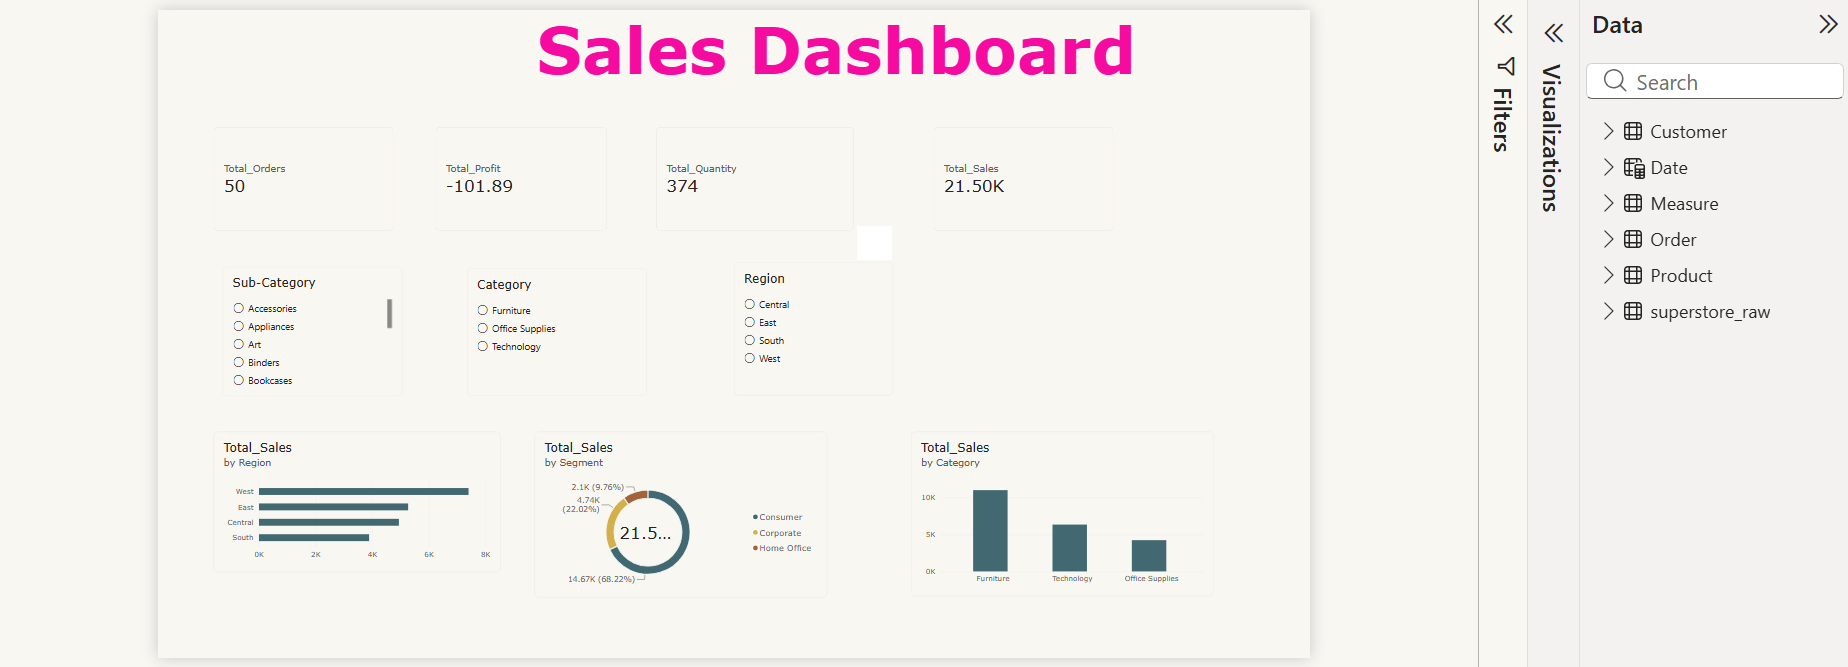

What the dashboard file says about the page in this screenshot:
{"tool":"powerbi","page":{"name":"Page 1","canvas":[1920,1080],"ordinal":0},"visuals":[{"type":"textbox","box":[431.9,0,1395.8,279.2],"z":0},{"type":"listSlicer","fields":{"Values":["superstore_raw.Region"]},"box":[959.6,420,265.1,222.9],"z":5003},{"type":"listSlicer","fields":{"Values":["superstore_raw.Sub-Category"]},"box":[107.9,427,300.3,215.9],"z":5004},{"type":"listSlicer","fields":{"Values":["superstore_raw.Category"]},"box":[513.8,429.4,300,213],"z":5005},{"type":"cardVisual","fields":{"Data":["Measure.Total_Orders"]},"box":[91.5,194.7,300.3,173.6],"z":5006},{"type":"cardVisual","fields":{"Data":["Measure.Total_Sales"]},"box":[1292.8,194.7,300.3,173.6],"z":5007},{"type":"cardVisual","fields":{"Data":["Measure.Total_Profit"]},"box":[462.2,194.7,286.2,173.6],"z":5008},{"type":"cardVisual","fields":{"Data":["Measure.Total_Quantity"]},"box":[830.6,194.7,330.8,173.6],"z":5009},{"type":"clusteredBarChart","fields":{"Category":["superstore_raw.Region"],"Y":["Measure.Total_Sales"]},"box":[91.5,701.5,478.6,234.6],"z":5010},{"type":"donutChart","fields":{"Category":["superstore_raw.Segment"],"Y":["Measure.Total_Sales"]},"box":[626.4,701.5,488,276.9],"z":5011},{"type":"clusteredColumnChart","fields":{"Category":["superstore_raw.Category"],"Y":["Measure.Total_Sales"]},"box":[1255.2,701.5,504.4,274.5],"z":5012}]}

Visuals, with their boxes on the page's 1920x1080 design canvas (x1, y1, x2, y2). These are canvas units, not pixel positions in the 1848x667 screenshot, which may show the page scaled, cropped or inside an application window:
textbox: (432,0,1828,279)
listSlicer - superstore_raw.Region: (960,420,1225,643)
listSlicer - superstore_raw.Sub-Category: (108,427,408,643)
listSlicer - superstore_raw.Category: (514,429,814,642)
cardVisual - Measure.Total_Orders: (92,195,392,368)
cardVisual - Measure.Total_Sales: (1293,195,1593,368)
cardVisual - Measure.Total_Profit: (462,195,748,368)
cardVisual - Measure.Total_Quantity: (831,195,1161,368)
clusteredBarChart - superstore_raw.Region x Measure.Total_Sales: (92,702,570,936)
donutChart - superstore_raw.Segment x Measure.Total_Sales: (626,702,1114,978)
clusteredColumnChart - superstore_raw.Category x Measure.Total_Sales: (1255,702,1760,976)
